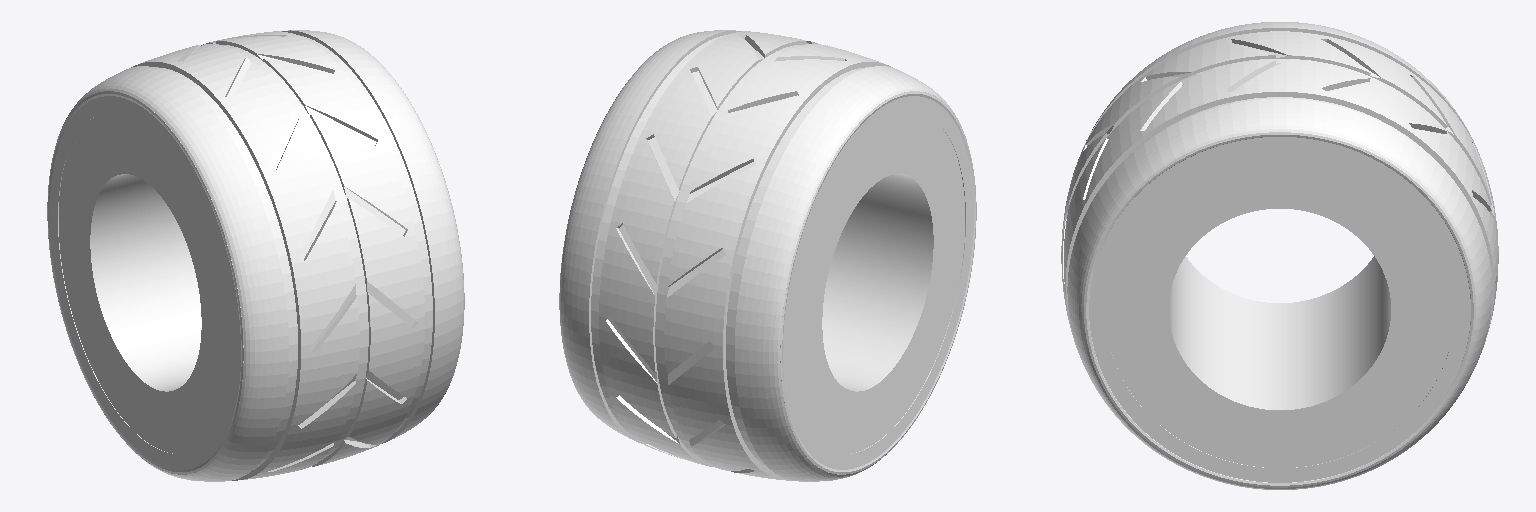
Rendered from Tire High Profile.obj.
3 renders of one model, left to right at view 1: azimuth 30°, elevation 25°; view 2: azimuth 150°, elevation 25°; view 3: azimuth 270°, elevation 25°, orthographic.
Visible parts, largest first — view 1: Tire, Tube; view 2: Tire, Tube; view 3: Tire, Tube.
Part boxes in pixels (x1,y1,x2,y2): Tire: (47,30,464,481); Tube: (59,112,232,453); Tire: (559,30,976,481); Tube: (791,112,964,453); Tire: (1061,22,1498,489); Tube: (1105,151,1454,467).
Bounding box in the file's own units: 2.05 × 3.5 × 3.5.